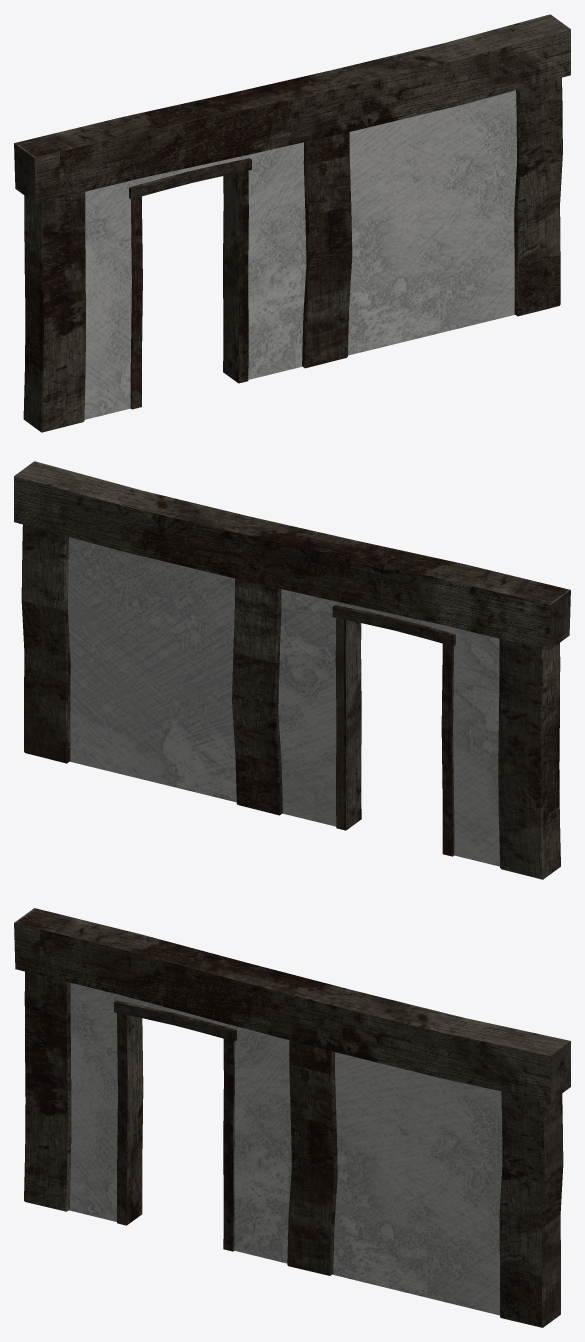
Rendered from TudorDoorWall2.fbx.
3 views of the same model, one above another, from view 1: azimuth 30°, elevation 25°; view 2: azimuth 150°, elevation 25°; view 3: azimuth 330°, elevation 25° (orthographic).
Parts seen in each view (by area): view 1: White Wall Door 4m 1beam; view 2: White Wall Door 4m 1beam; view 3: White Wall Door 4m 1beam.
Boxes of the visible parts, box(x1,y1,x2,y2) form: White Wall Door 4m 1beam: box(14, 14, 570, 432); White Wall Door 4m 1beam: box(14, 461, 570, 879); White Wall Door 4m 1beam: box(14, 908, 570, 1327).
Size of the model in its own units: 489 by 242 by 32.29.
